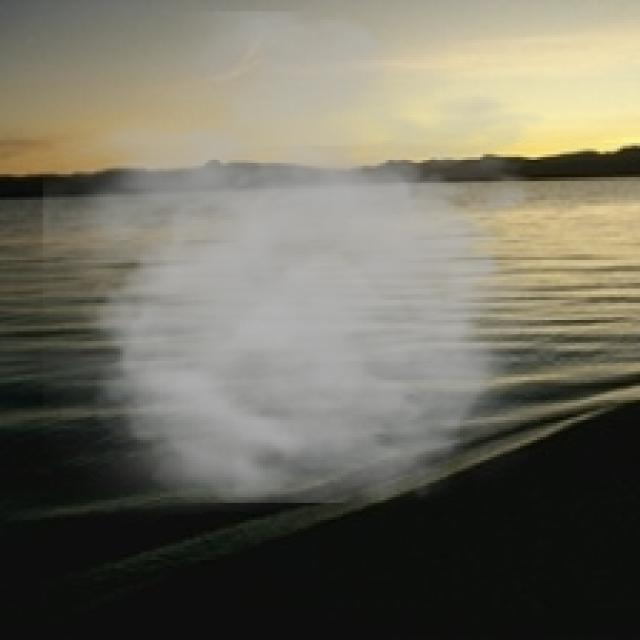Smoke: (42, 12, 598, 534)
